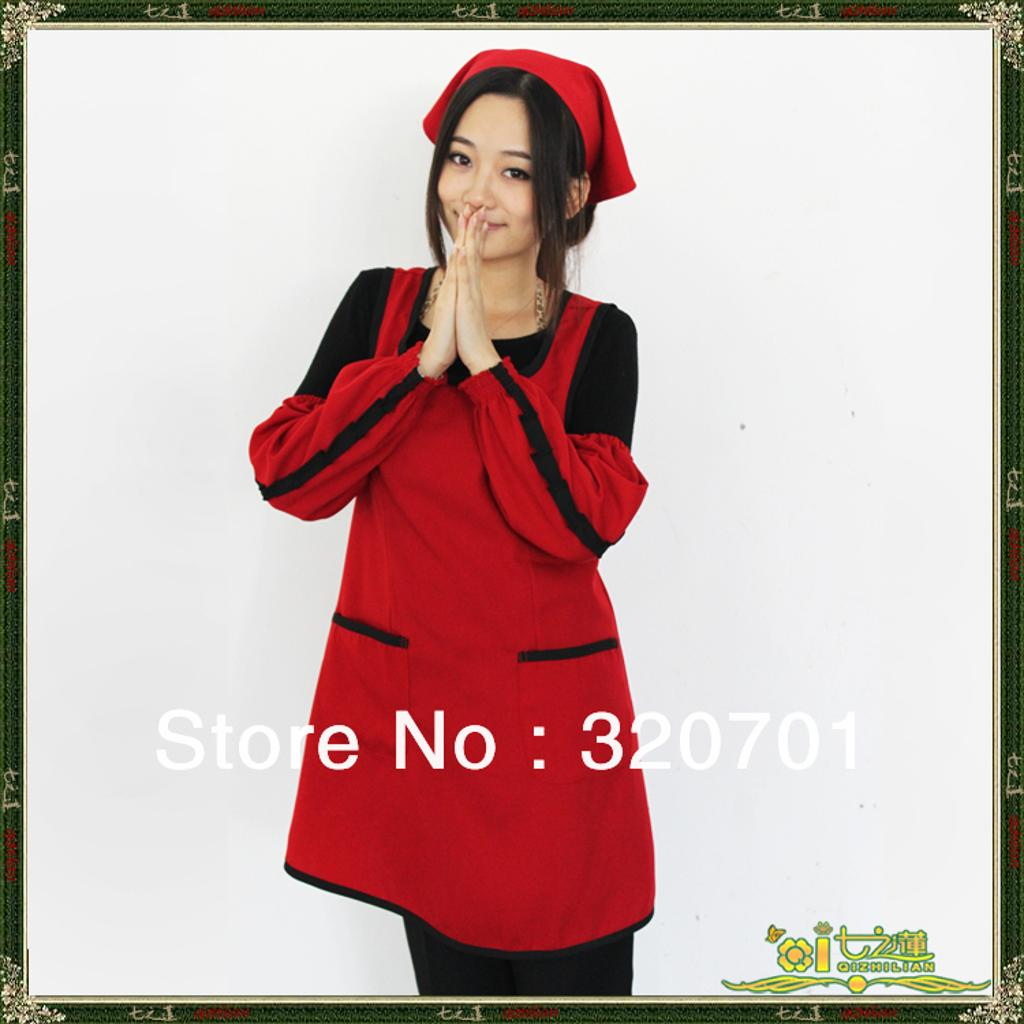face: (434, 98, 570, 252)
